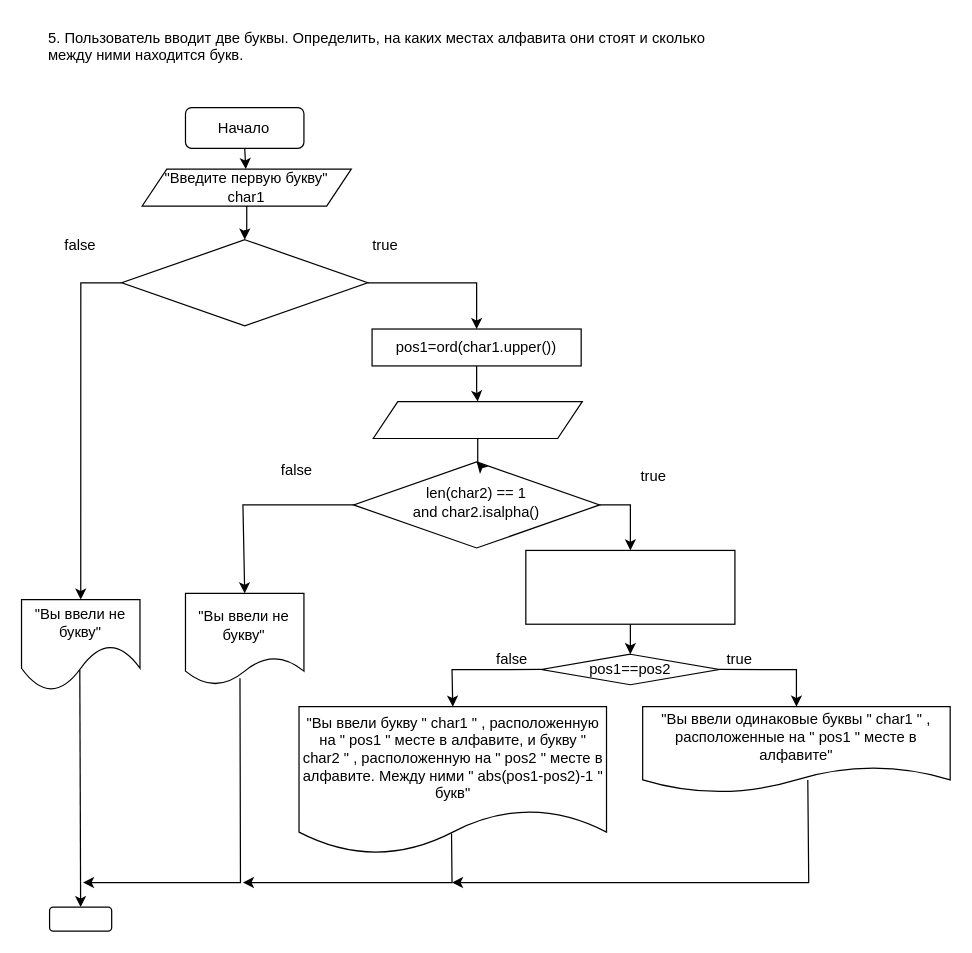
Image size: 972x953. Some labels were removed from this diagram. The centre of each missing label's shape, as x and y in pixels:
"Введите вторую букву" char2: the point at 477,419
len(char1) ==1 and char1.isalpha(): the point at 244,282
pos2=ord(char2.upper()) pos1=pos1-64 pos2=pos2-64: the point at 630,586
конец: the point at 80,918
